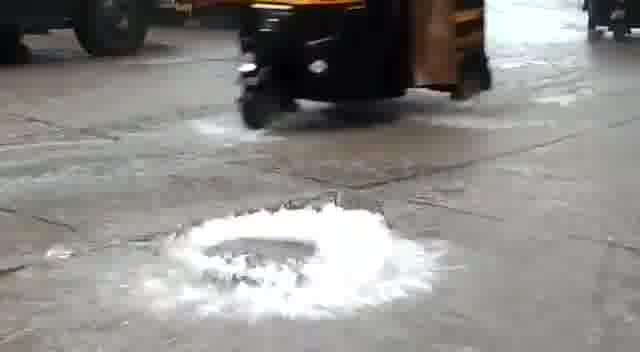drainage_overflow: (94, 188, 464, 338)
